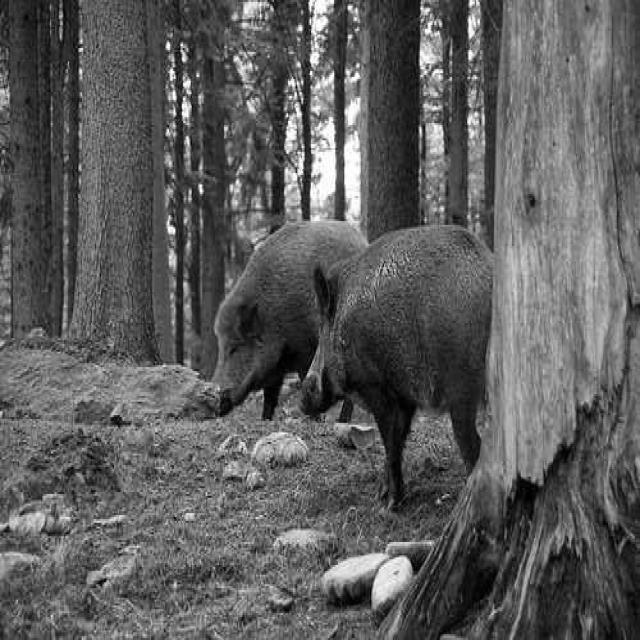boar: (301, 223, 490, 502), (211, 219, 365, 415)
